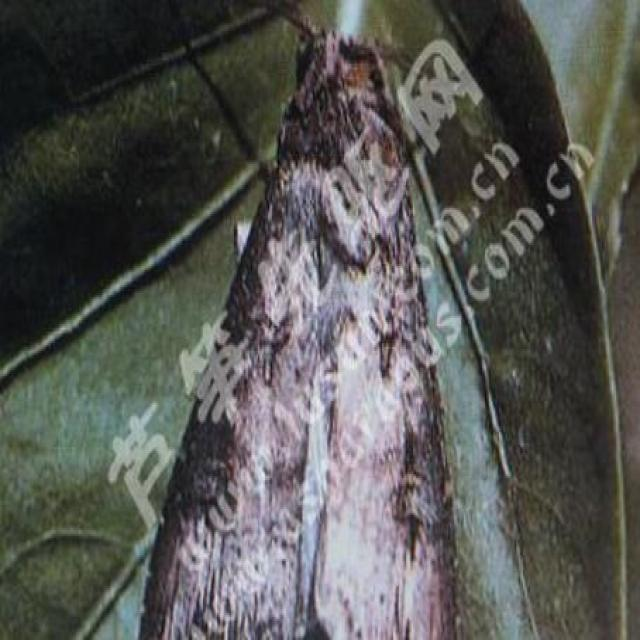black cutworm: (135, 24, 487, 637)
